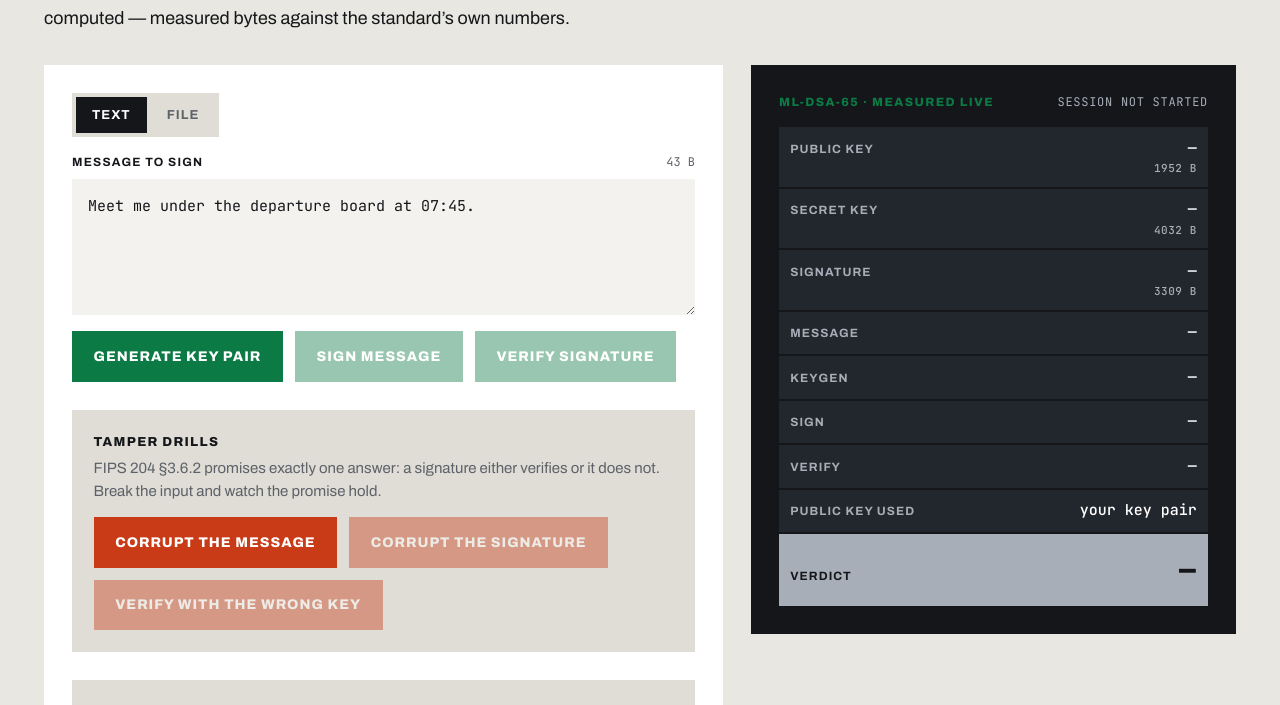
Demo — core signing flow › rejects verification with a freshly generated key
(page scrolled)
Click the button with test id "keygen" at (177, 357), box [72, 331, 283, 382]
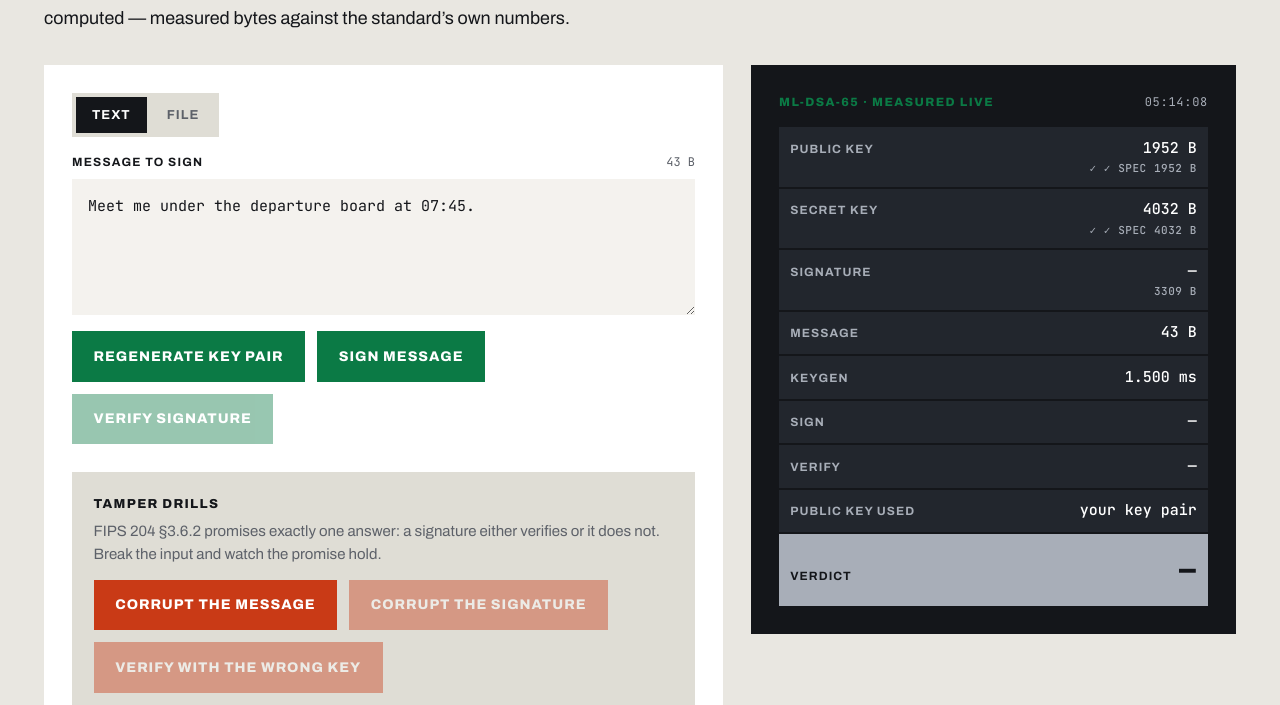
Click the button with test id "sign" at (401, 357), box [317, 331, 485, 382]
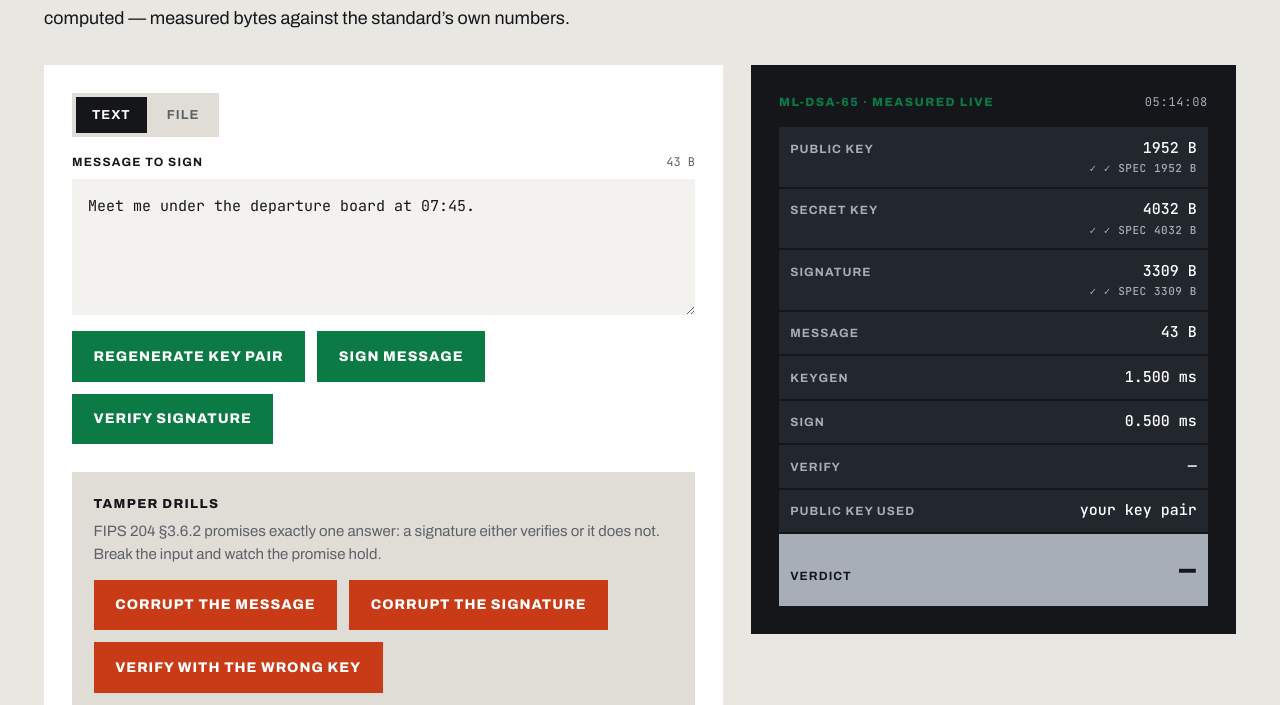
Click the button with test id "drill-wrong-key" at (238, 668), box [94, 642, 383, 693]
(page scrolled)
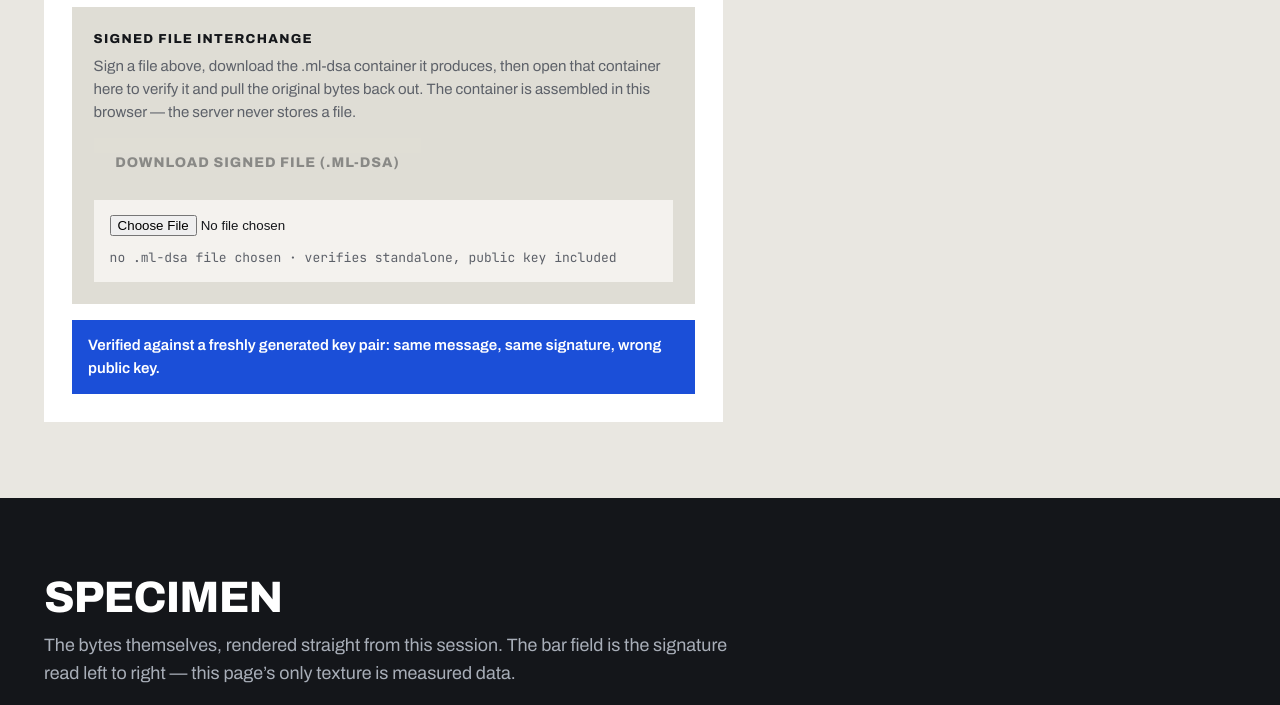
Check: the text with test id "notice" shows "freshly generated", box [88, 337, 661, 376]
